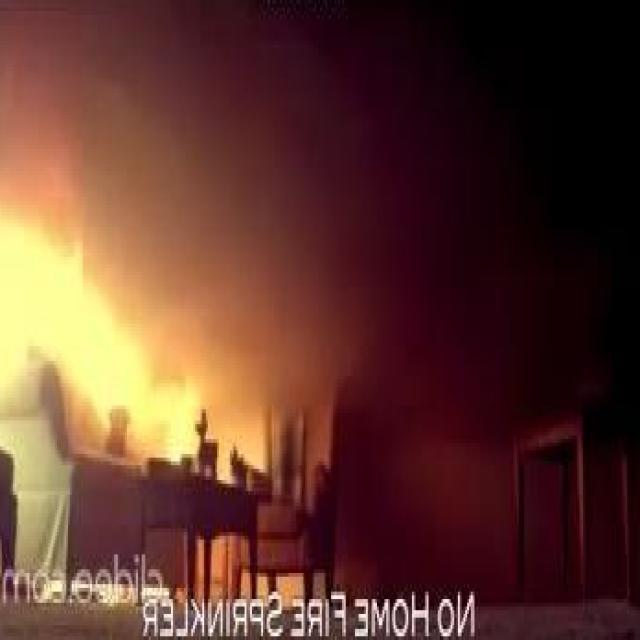smoke: (0, 216, 197, 443)
